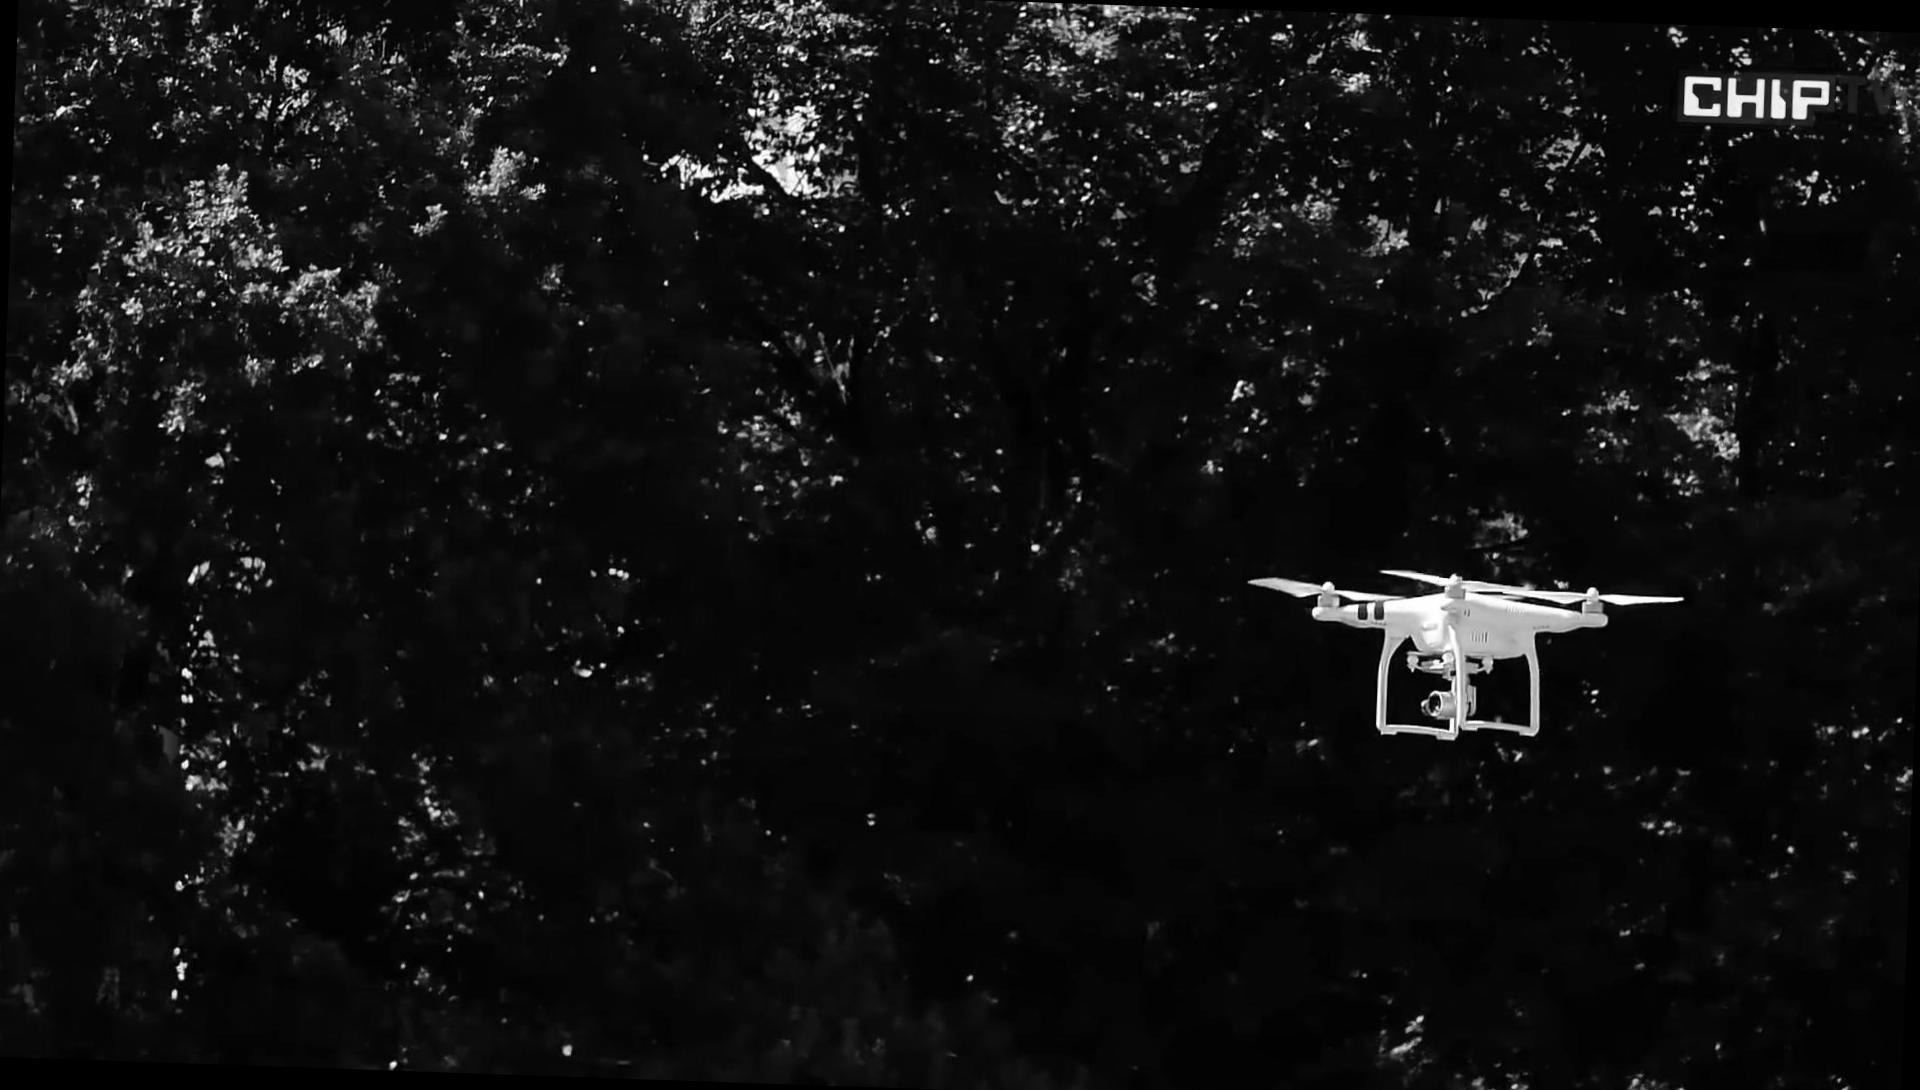drone: (1237, 554, 1685, 749)
